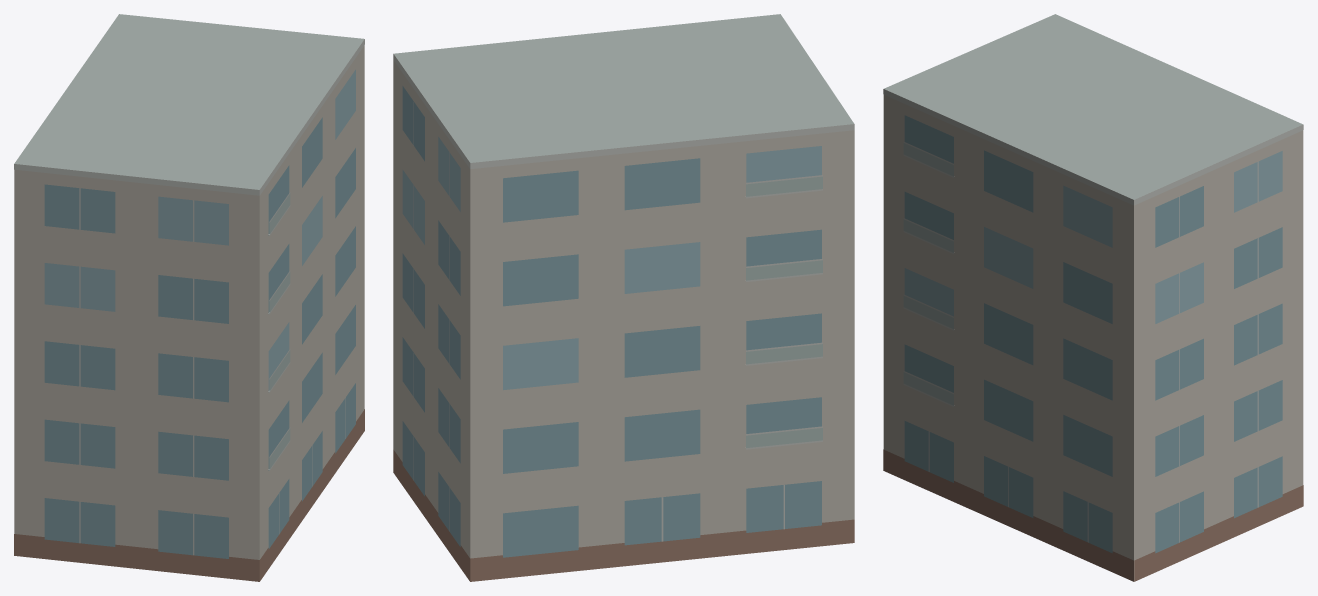
The model's file is survey-upis-32465182.glb.
3 views of the same model, side by side, from view 1: azimuth 30°, elevation 25°; view 2: azimuth 150°, elevation 25°; view 3: azimuth 270°, elevation 25° (orthographic). The views are drawn at different scales.
Parts seen in each view (by area): view 1: survey-upis-32465182.tmp; view 2: survey-upis-32465182.tmp; view 3: survey-upis-32465182.tmp.
Boxes of the visible parts, box(x1,y1,x2,y2) form: survey-upis-32465182.tmp: box(14, 14, 364, 581); survey-upis-32465182.tmp: box(393, 14, 854, 581); survey-upis-32465182.tmp: box(883, 14, 1303, 581).
Size of the model in its own units: 17.24 by 16.5 by 16.45.
